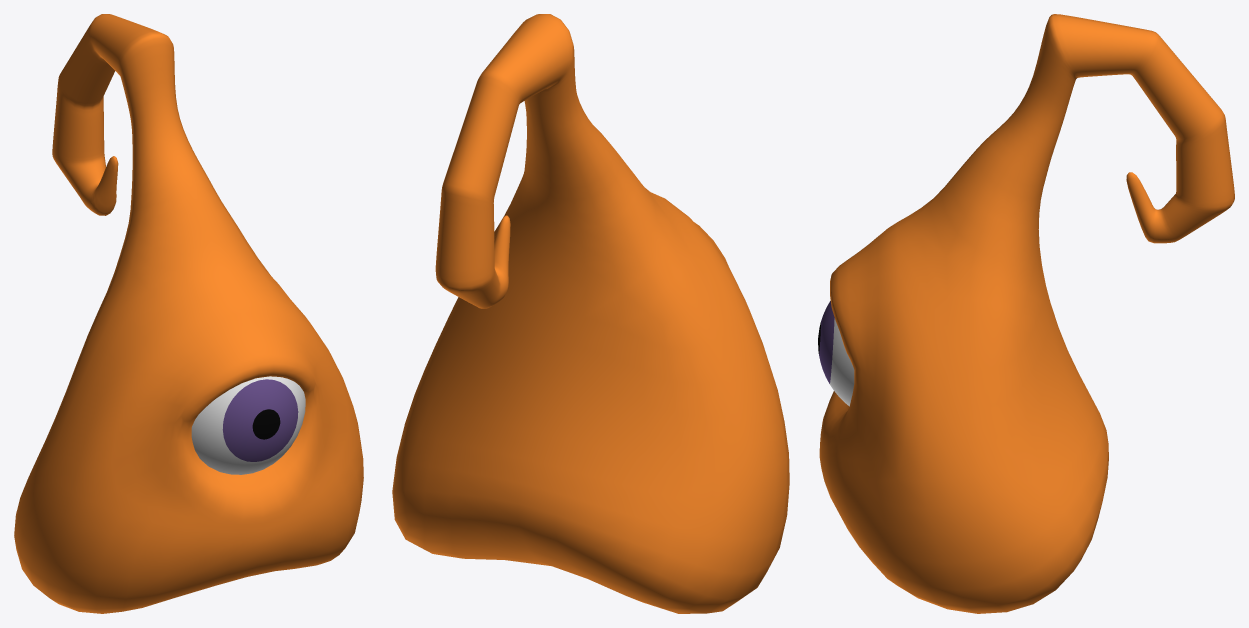
File: Arcturus.fbx
3 renders of one model, left to right at view 1: azimuth 30°, elevation 25°; view 2: azimuth 150°, elevation 25°; view 3: azimuth 270°, elevation 25°, orthographic. The views are drawn at different scales.
Visible parts, largest first — view 1: Arcturus, OlhoArcturus; view 2: Arcturus; view 3: Arcturus, OlhoArcturus.
Boxes of the visible parts, box(x1,y1,x2,y2) form: Arcturus: box(14, 14, 363, 613); OlhoArcturus: box(191, 376, 305, 474); Arcturus: box(392, 14, 789, 613); Arcturus: box(819, 14, 1234, 613); OlhoArcturus: box(818, 301, 854, 406).
Size of the model in its own units: 126 by 199 by 140.
